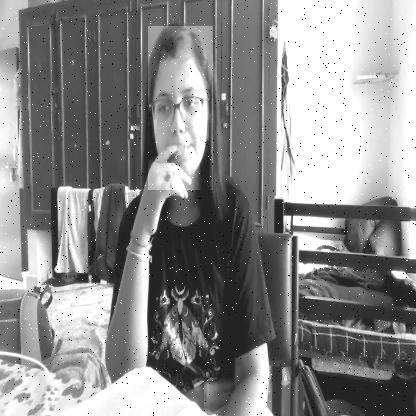Normal: (148, 26, 213, 190)
